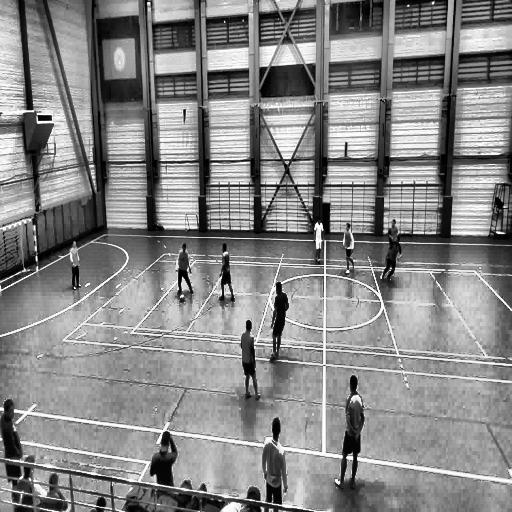ball: (179, 294, 184, 302)
player: (333, 376, 364, 490), (263, 417, 287, 508), (240, 319, 259, 402), (270, 281, 288, 361), (380, 232, 401, 281), (176, 244, 193, 297), (220, 243, 234, 302), (68, 240, 82, 289), (343, 223, 355, 275), (313, 217, 323, 265)
